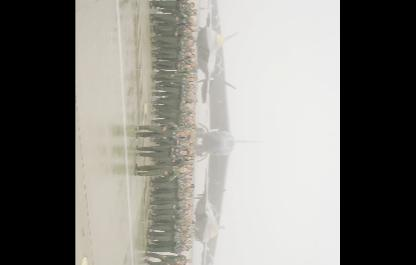B2: (195, 0, 263, 263)
F18: (190, 0, 240, 123), (188, 162, 228, 263)
